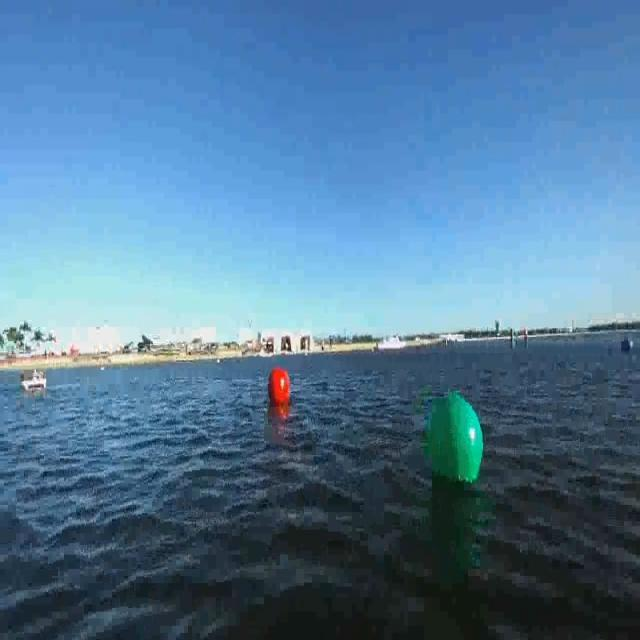blue-buoy: (621, 337, 633, 355)
green-buoy: (419, 391, 486, 488)
red-buoy: (267, 365, 291, 407)
